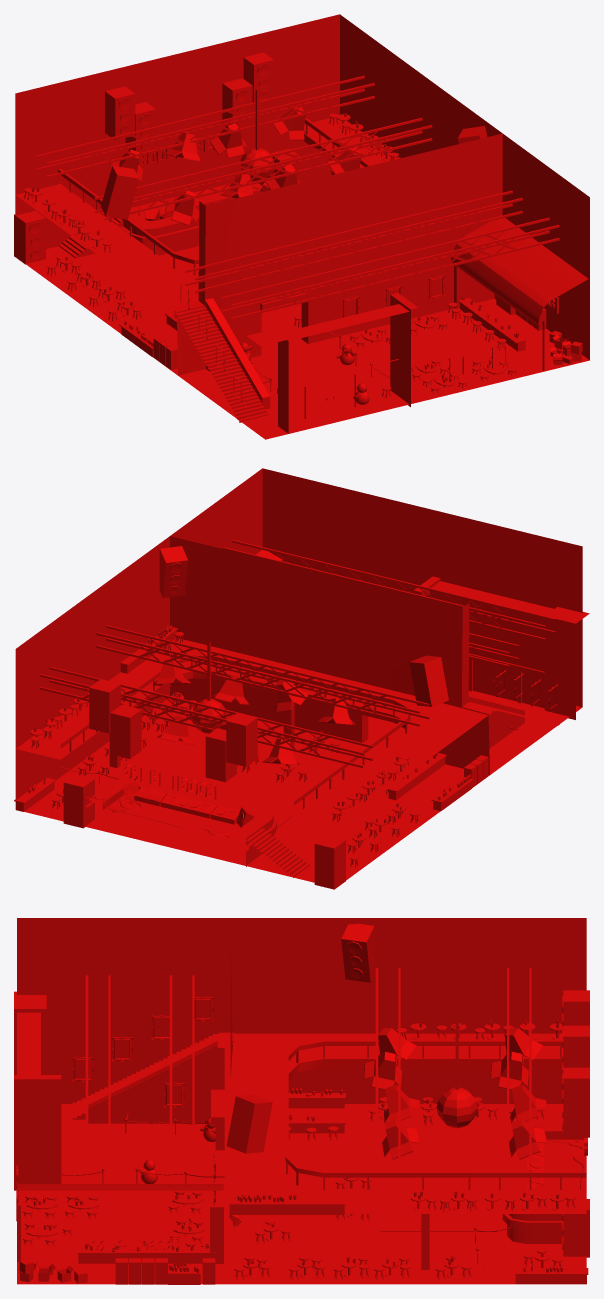
The model's file is Individual_BoogieBerg_03.glb.
3 views of the same model, one above another, from view 1: azimuth 30°, elevation 25°; view 2: azimuth 150°, elevation 25°; view 3: azimuth 270°, elevation 25° (orthographic). The views are drawn at different scales.
Visible parts, largest first — view 1: polySurface7, pCube55, pCube95, pasted__Object_Box8, pCube108, pCube109, pCube120, pCube4, pasted__Object_Box24, pCube111, pCube107, pCube104 (+12 smaller); view 2: polySurface7, pCube95, pCube55, pCube4, pasted__Object_Box25, pCube109, DanceFloor, pCube107, pCube104, pCube10, pCube111, pCube113 (+13 smaller); view 3: polySurface7, pCube95, pasted__Object_Box26, pasted__Object_Box24, pCube4, DanceFloor, pCube55, pCube106, pCube107, pCube105, pCube120, pasted__Object_Box8 (+24 smaller).
Part boxes in pixels (<box>): polySurface7: <box>15,14,589,439</box>; pCube55: <box>36,75,432,220</box>; pCube95: <box>16,117,396,318</box>; pasted__Object_Box8: <box>451,215,588,326</box>; pCube108: <box>184,190,522,293</box>; pCube109: <box>221,217,559,320</box>; pCube120: <box>175,307,268,422</box>; pCube4: <box>120,173,274,255</box>; pasted__Object_Box24: <box>390,292,418,406</box>; pCube111: <box>14,211,45,264</box>; pCube107: <box>101,165,138,219</box>; pCube104: <box>105,86,135,140</box>; polySurface7: <box>15,468,582,882</box>; pCube95: <box>16,638,492,826</box>; pCube55: <box>39,625,429,767</box>; pCube4: <box>85,777,276,866</box>; pasted__Object_Box25: <box>544,607,589,719</box>; pCube109: <box>222,540,555,640</box>; DanceFloor: <box>171,766,318,827</box>; pCube107: <box>409,655,448,706</box>; pCube104: <box>226,712,257,766</box>; pCube10: <box>110,704,141,758</box>; pCube111: <box>314,835,345,889</box>; pCube113: <box>63,774,94,828</box>; polySurface7: <box>17,918,586,1284</box>; pCube95: <box>224,1033,586,1213</box>; pasted__Object_Box26: <box>88,1041,217,1123</box>; pasted__Object_Box24: <box>14,1075,61,1190</box>; pCube4: <box>502,1123,586,1243</box>; DanceFloor: <box>380,1162,496,1231</box>; pCube55: <box>375,968,531,1164</box>; pCube106: <box>226,1094,272,1153</box>; pCube107: <box>341,923,375,982</box>; pCube105: <box>562,1067,589,1125</box>; pCube120: <box>72,1034,218,1119</box>; pasted__Object_Box8: <box>17,1184,223,1190</box>.
Bounding box in the file's own units: 24.05 × 11.06 × 30.65.
